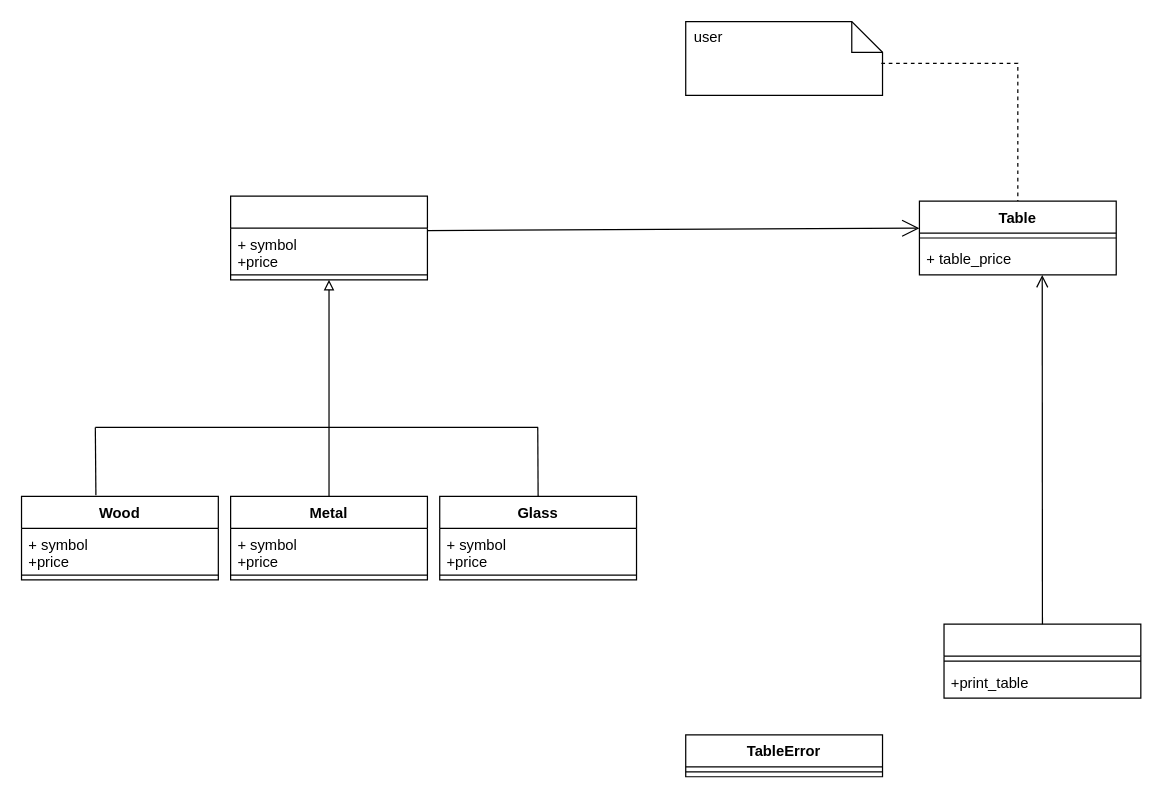
This 1162x798 diagram has some shape labels left out. Here are the shapes that lost their labels. From the top down, the box of each, then its label:
(684, 20, 883, 95): input data
(229, 195, 427, 280): TableMaterial
(943, 623, 1141, 698): Printer
